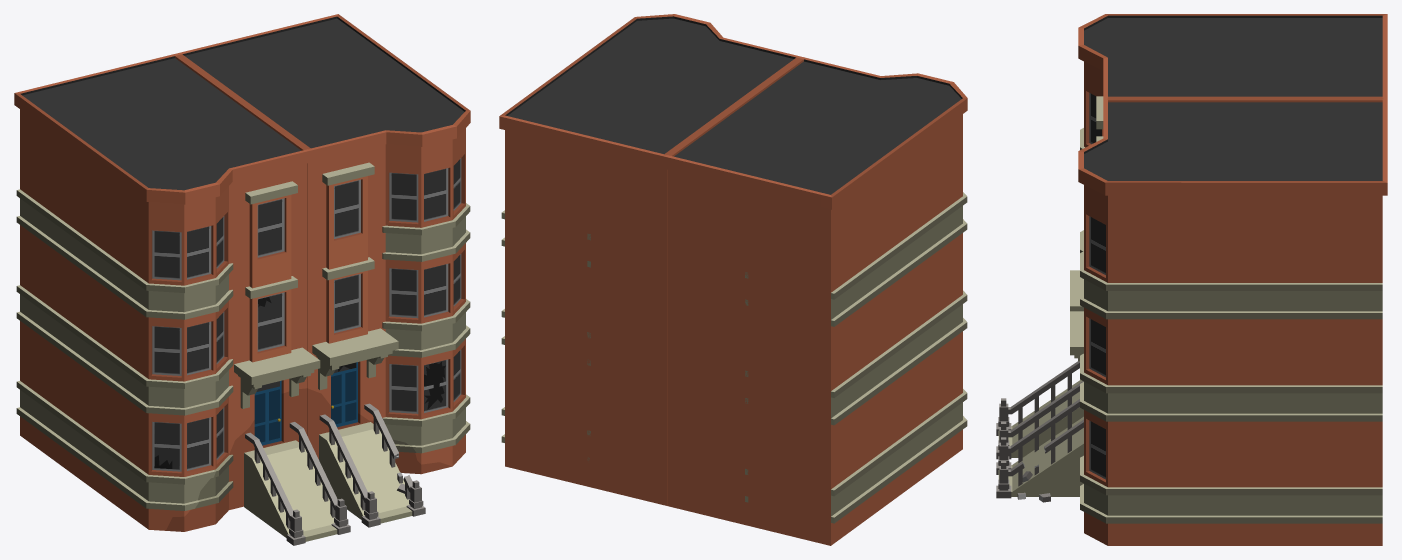
File: SA_Bld_TownHouseLarge_01.gltf
3 views of the same model, side by side, from view 1: azimuth 30°, elevation 25°; view 2: azimuth 150°, elevation 25°; view 3: azimuth 270°, elevation 25° (orthographic). The views are drawn at different scales.
Visible parts, largest first — view 1: SA_Bld_TownHouseLarge_01; view 2: SA_Bld_TownHouseLarge_01; view 3: SA_Bld_TownHouseLarge_01.
Boxes of the visible parts, x1=… form: SA_Bld_TownHouseLarge_01: x1=14, y1=14, x2=470, y2=545; SA_Bld_TownHouseLarge_01: x1=499, y1=14, x2=967, y2=545; SA_Bld_TownHouseLarge_01: x1=996, y1=14, x2=1387, y2=545.
Size of the model in its own units: 18.39 by 18.57 by 18.02.
Materials: 1 (1 with a texture image).
